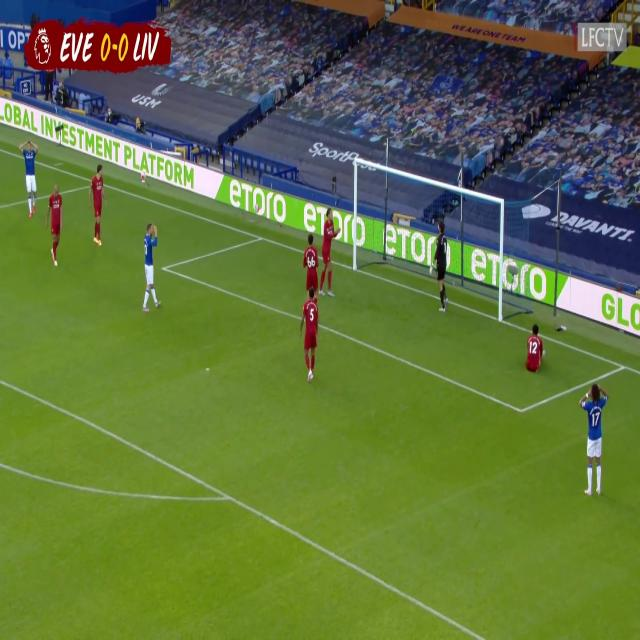GoalKeeper: (428, 220, 458, 314)
TEAM 1: (300, 283, 322, 383), (88, 158, 111, 250), (46, 181, 66, 272), (320, 204, 338, 300), (297, 228, 319, 300), (520, 316, 546, 372)
TEAM 2: (580, 381, 610, 498), (138, 214, 164, 314), (18, 129, 40, 218)
